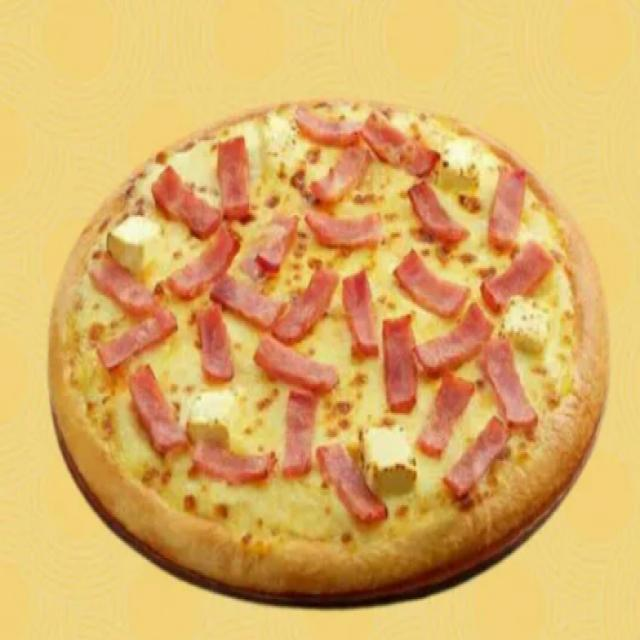bacon cheese Pizza: (125, 198, 558, 508)
